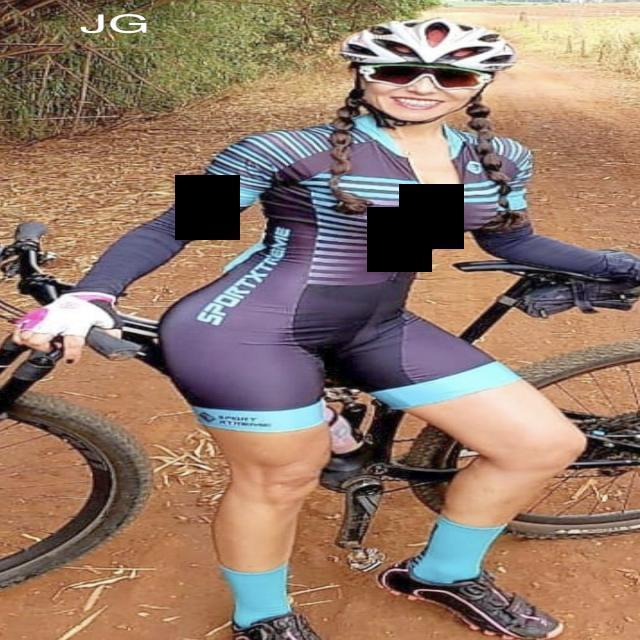helmet: (313, 1, 536, 84)
